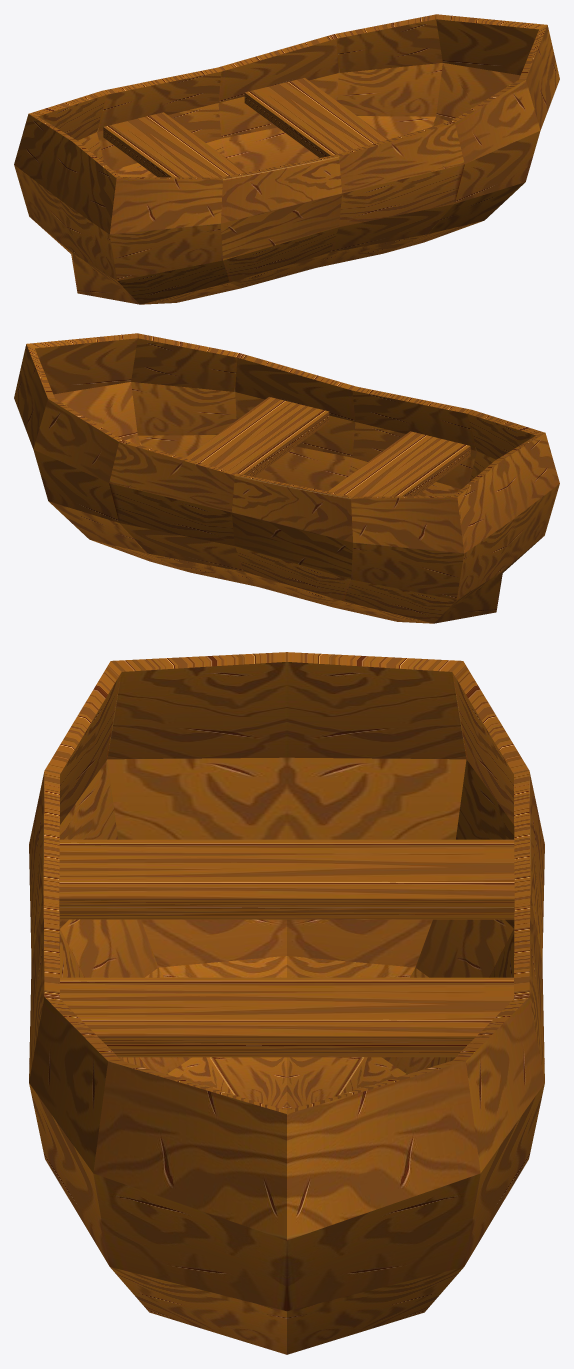
Rendered from Boat.glb.
3 views of the same model, one above another, from view 1: azimuth 30°, elevation 25°; view 2: azimuth 150°, elevation 25°; view 3: azimuth 270°, elevation 25° (orthographic). The views are drawn at different scales.
Visible parts, largest first — view 1: Sphere, Cube.001, Cube; view 2: Sphere, Cube.001, Cube; view 3: Sphere, Cube, Cube.001.
Boxes of the visible parts, x1,y1,x2,y2 form: Sphere: (14,14,559,304); Cube.001: (244,78,388,157); Cube: (103,112,245,177); Sphere: (14,333,559,623); Cube.001: (185,397,329,476); Cube: (328,431,470,496); Sphere: (29,652,544,1354); Cube: (59,839,514,919); Cube.001: (60,977,513,1057).
Size of the model in its own units: 2.89 by 0.9583 by 1.29.
1 material, 1 textured.
